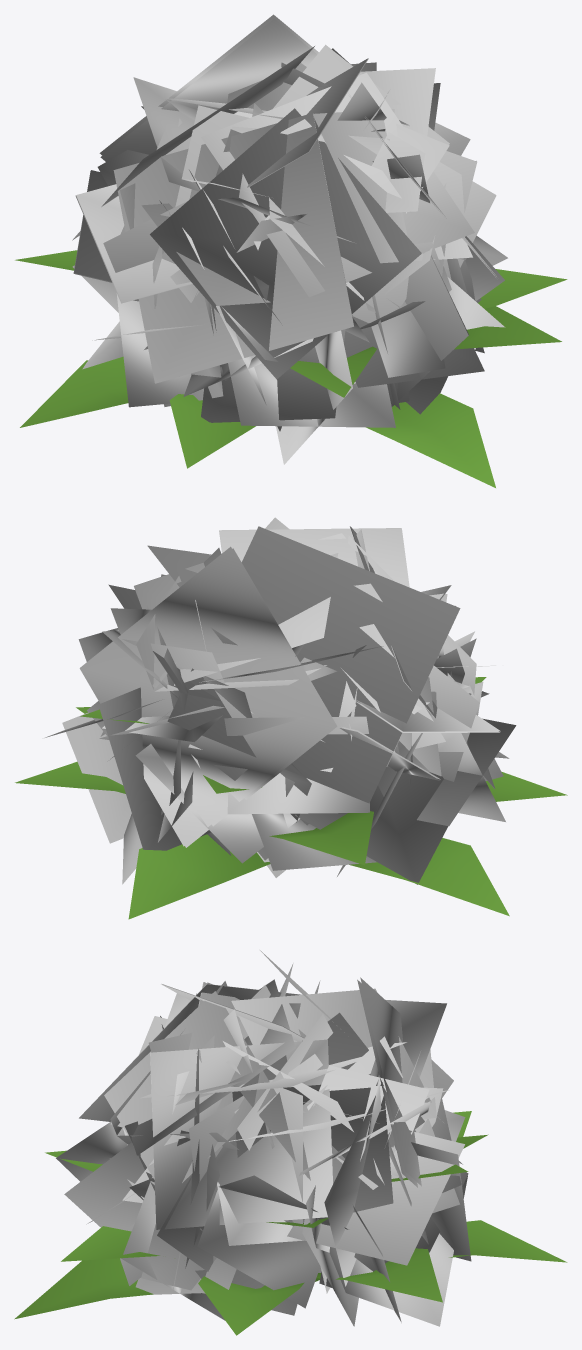
Rendered from Furniture_Vegetation_7.fbx.
3 views of the same model, one above another, from view 1: azimuth 30°, elevation 25°; view 2: azimuth 150°, elevation 25°; view 3: azimuth 270°, elevation 25° (orthographic). The views are drawn at different scales.
Parts seen in each view (by area): view 1: Furniture_Vegetation_7_1, Furniture_Vegetation_7; view 2: Furniture_Vegetation_7_1, Furniture_Vegetation_7; view 3: Furniture_Vegetation_7_1, Furniture_Vegetation_7.
Part boxes in pixels (<box>): Furniture_Vegetation_7_1: <box>72,14,507,464</box>; Furniture_Vegetation_7: <box>15,250,567,487</box>; Furniture_Vegetation_7_1: <box>45,517,516,884</box>; Furniture_Vegetation_7: <box>15,677,567,919</box>; Furniture_Vegetation_7_1: <box>56,950,471,1326</box>; Furniture_Vegetation_7: <box>14,1111,567,1335</box>.
Size of the model in its own units: 99.83 by 66.73 by 102.
